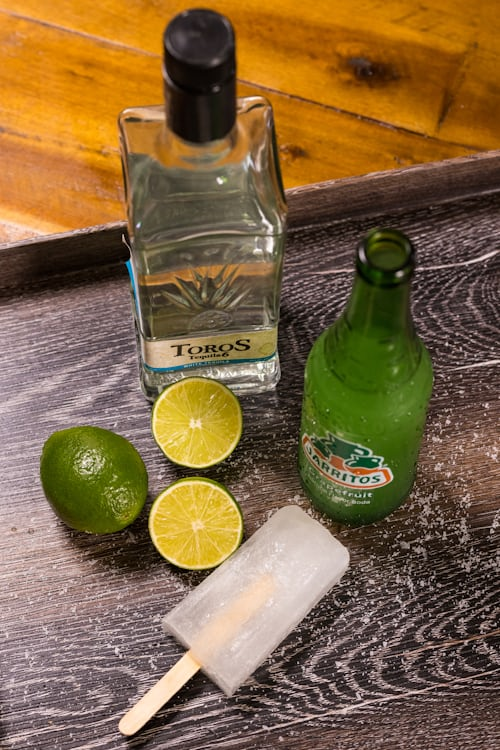Bottle: (97, 12, 296, 399), (302, 230, 426, 523)
